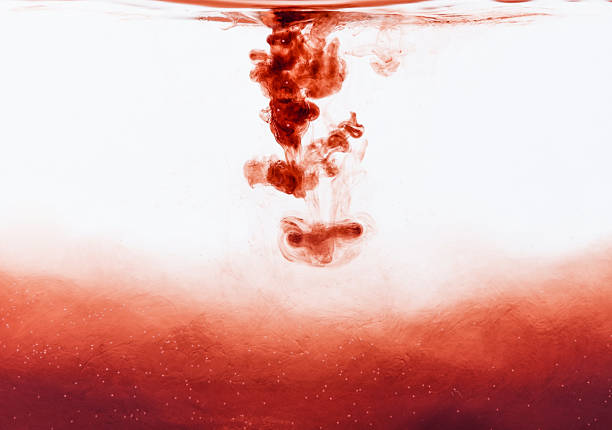blood: (150, 0, 557, 266), (0, 276, 612, 430)
